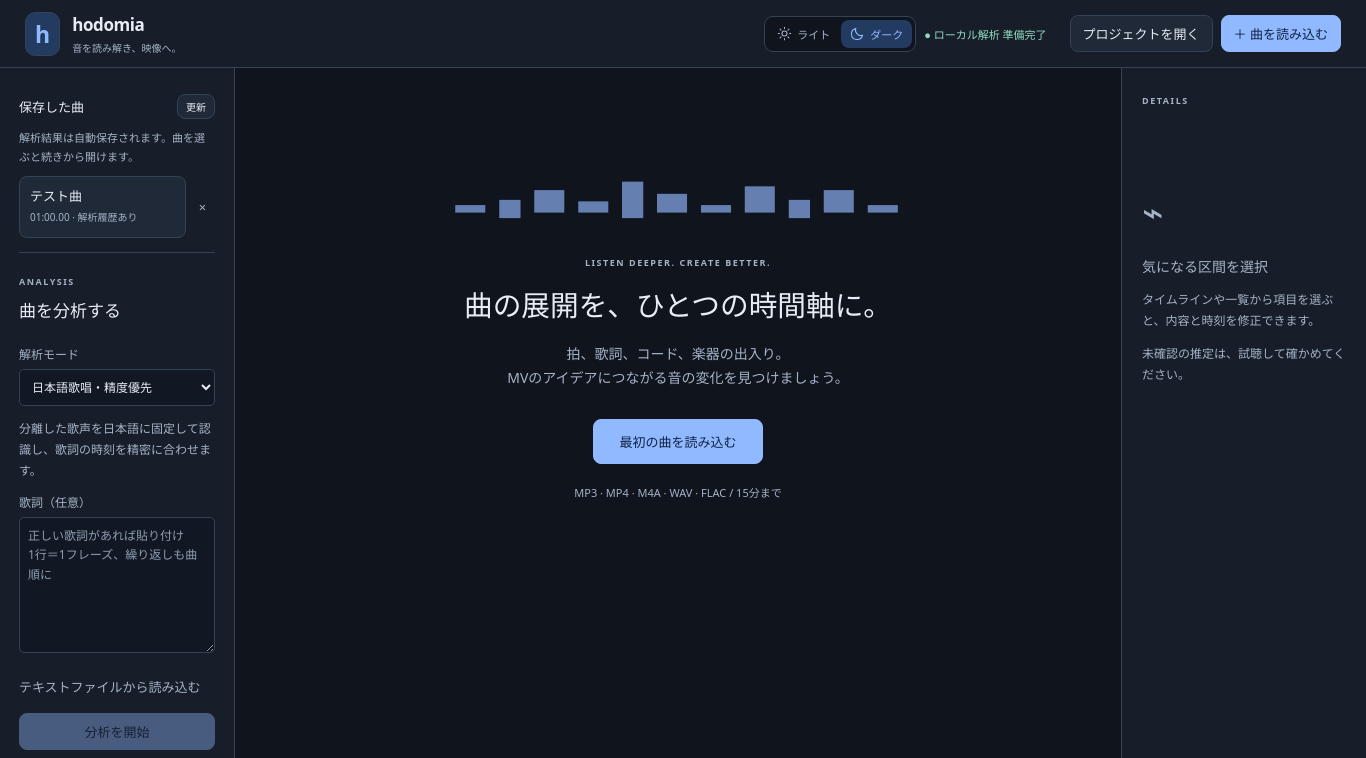
Test: removing a saved song requires confirmation and clears analysis before hiding it
Click the button named "テスト曲を削除".
click(202, 206)  # box [190, 176, 215, 238]
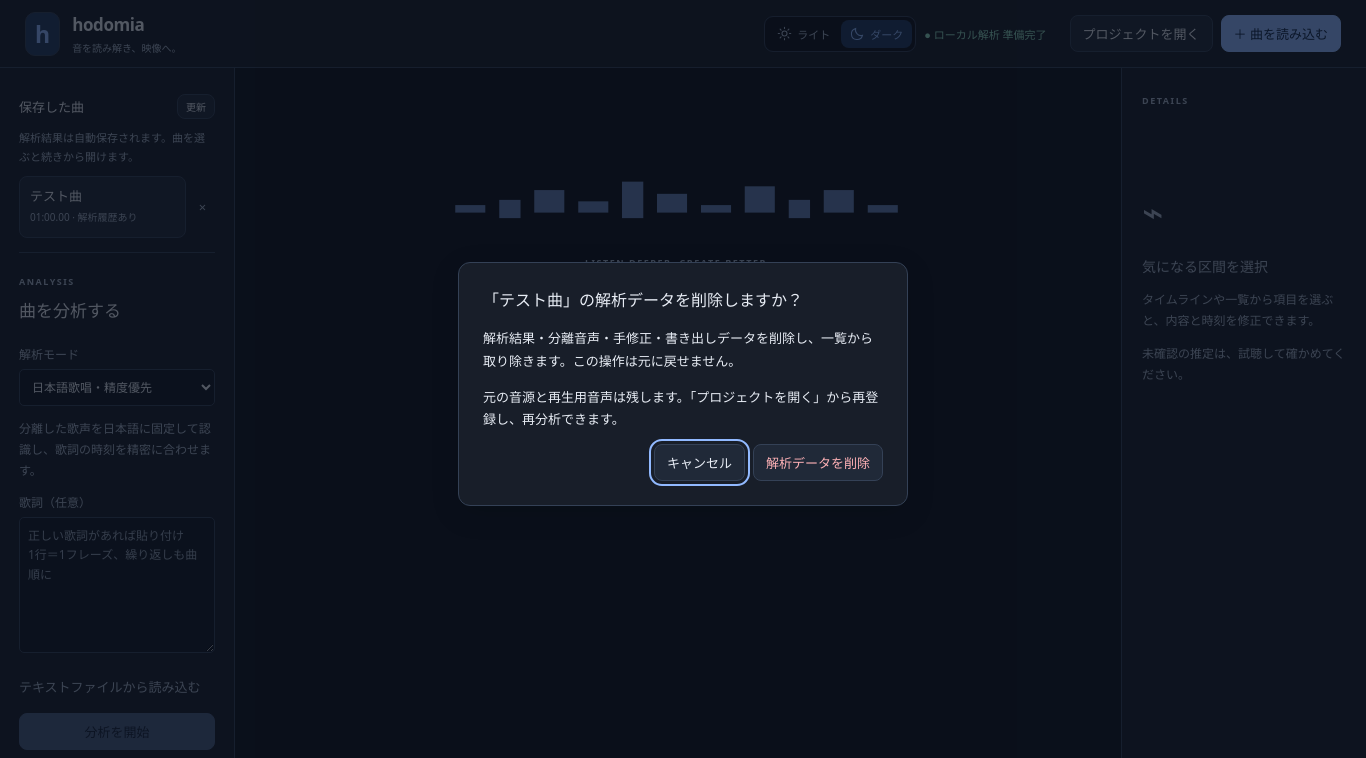
Click the button "キャンセル".
click(700, 462)  # box [654, 444, 745, 481]
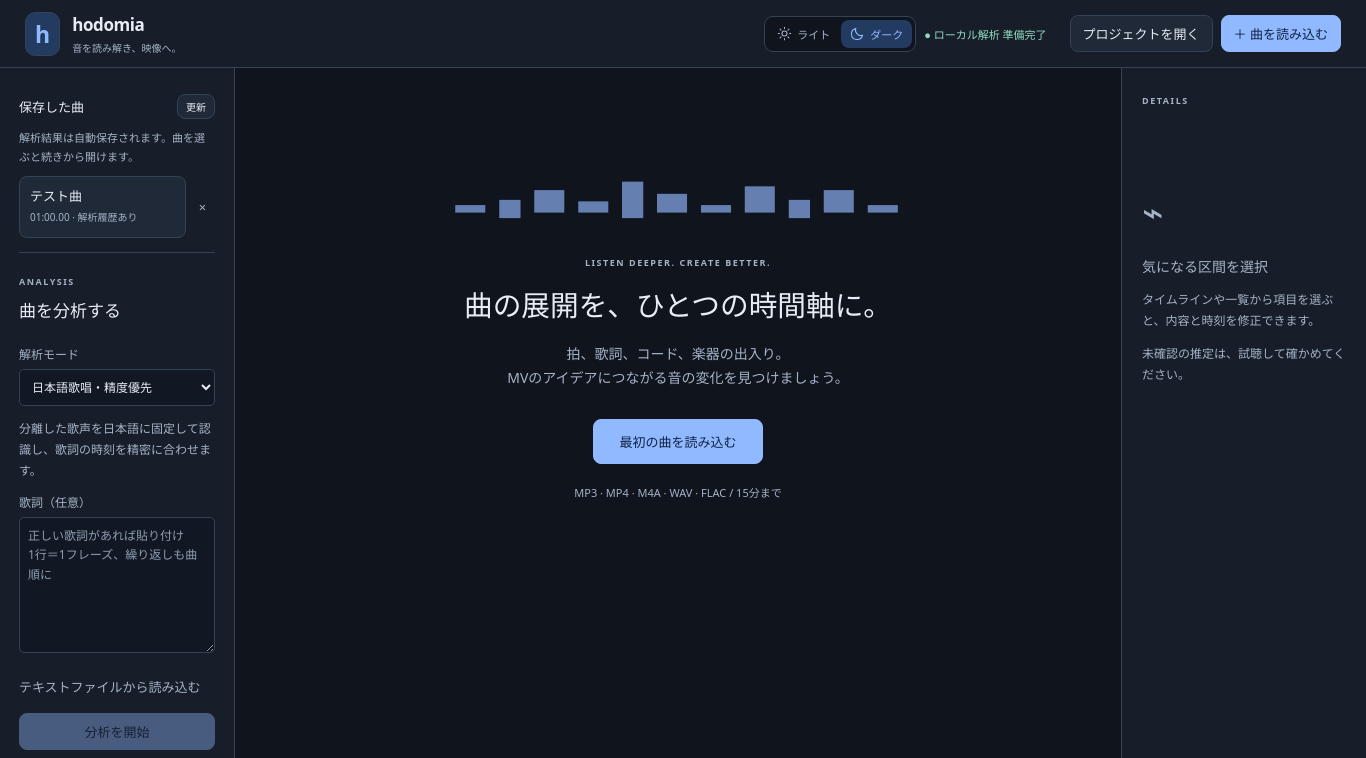
Click the button named "テスト曲を削除".
click(202, 206)  # box [190, 176, 215, 238]
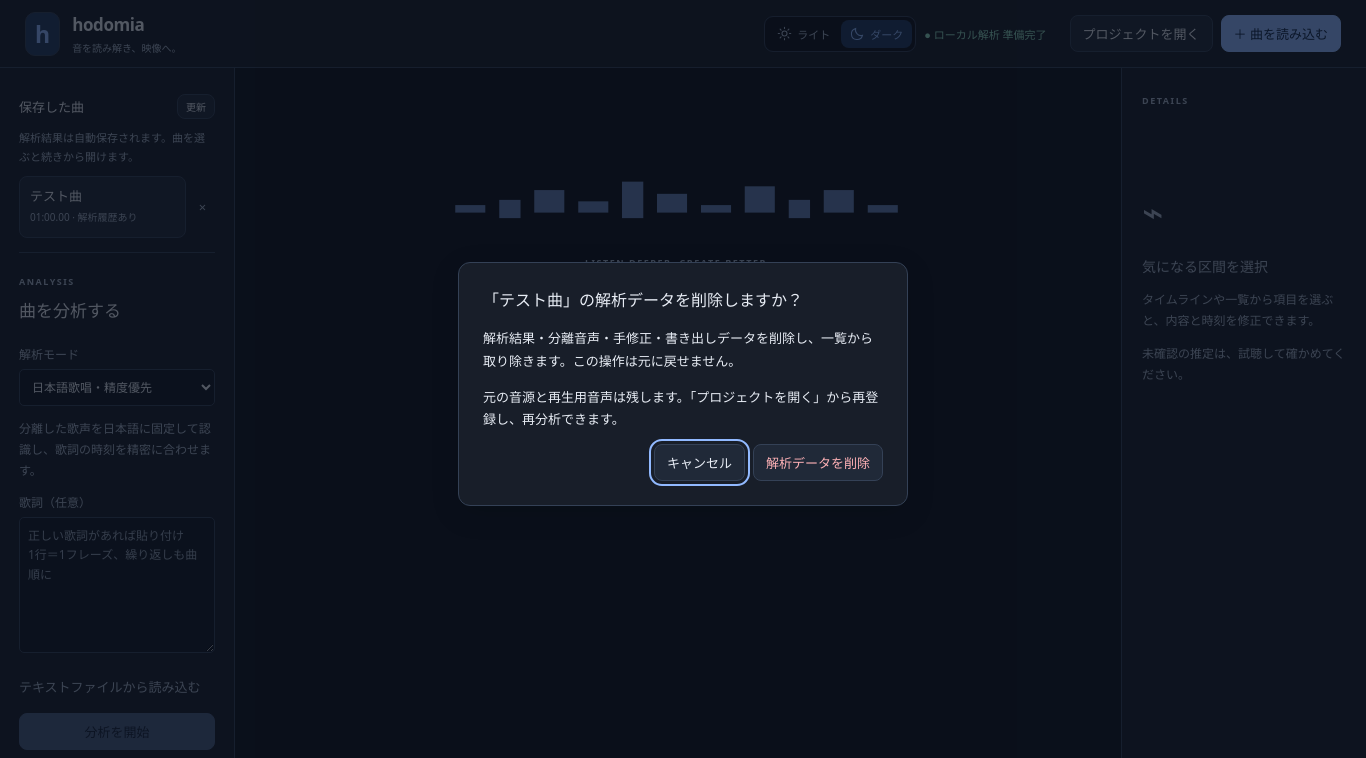
Click the button "解析データを削除".
click(818, 462)  # box [753, 444, 883, 481]
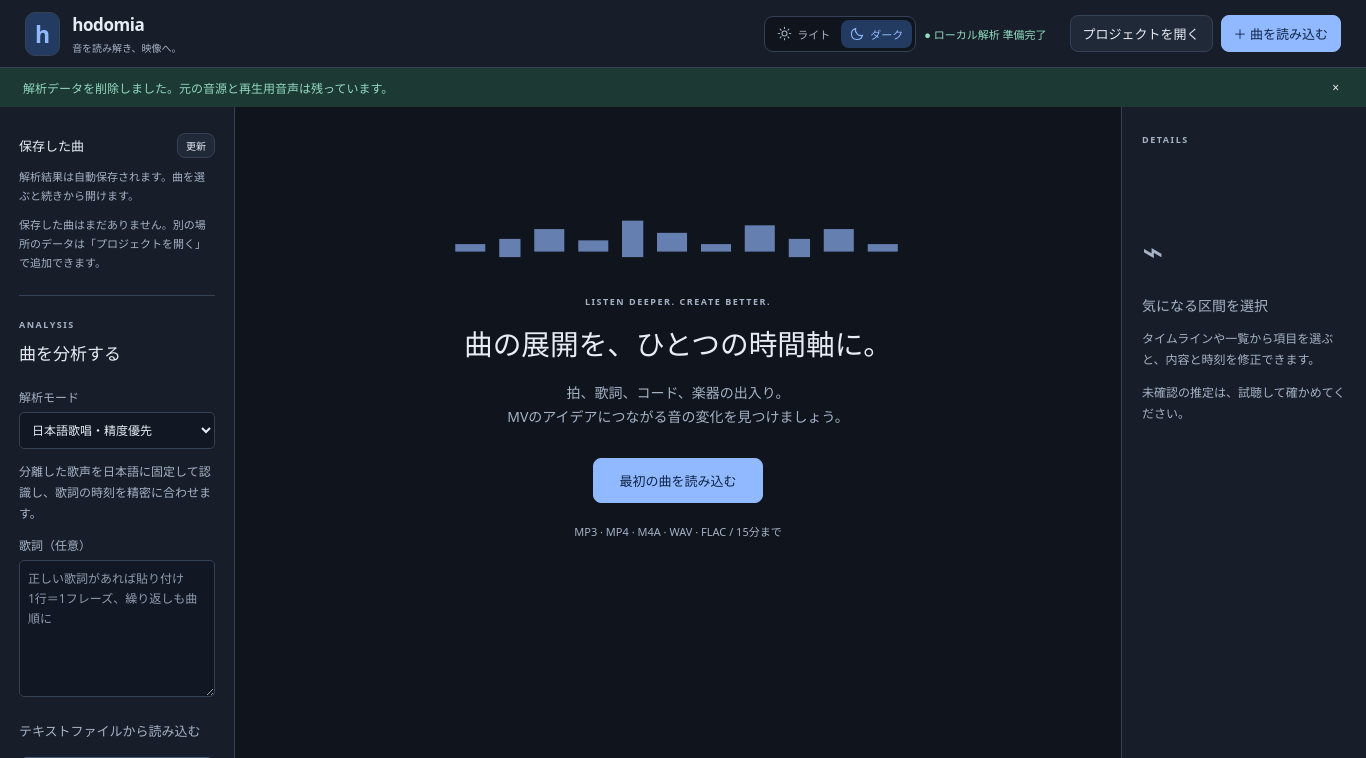
Now the button "テスト曲を開く" is gone
